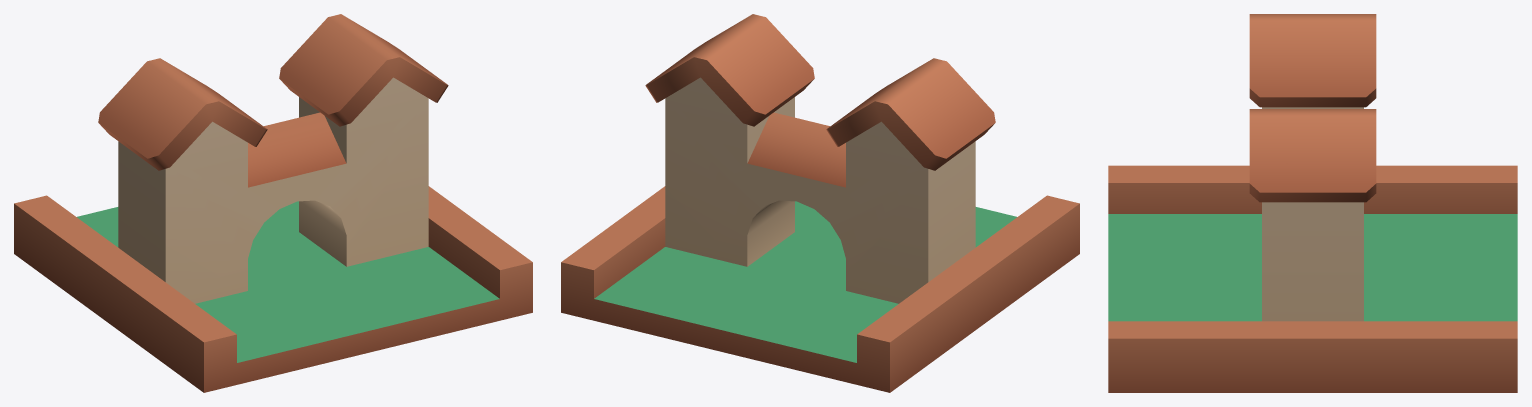
Rendered from castle-mini.glb.
3 views of the same model, side by side, from view 1: azimuth 30°, elevation 25°; view 2: azimuth 150°, elevation 25°; view 3: azimuth 270°, elevation 25° (orthographic). The views are drawn at different scales.
Parts seen in each view (by area): view 1: mg_castle; view 2: mg_castle; view 3: mg_castle.
Part boxes in pixels (<box>): mg_castle: <box>14,14,532,392</box>; mg_castle: <box>561,14,1079,392</box>; mg_castle: <box>1108,14,1517,392</box>.
Bounding box in the file's own units: 0.9999 × 0.651 × 0.9999.
